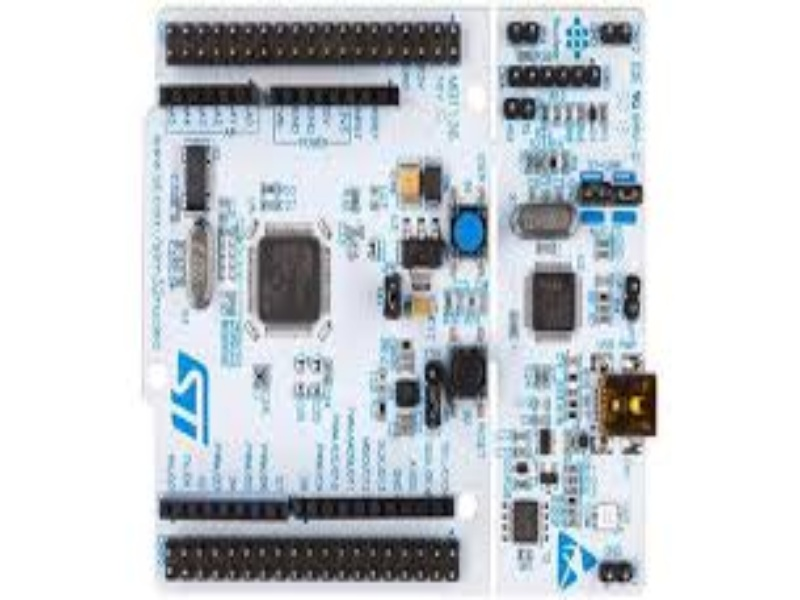stmnucleo: (120, 5, 661, 592)
